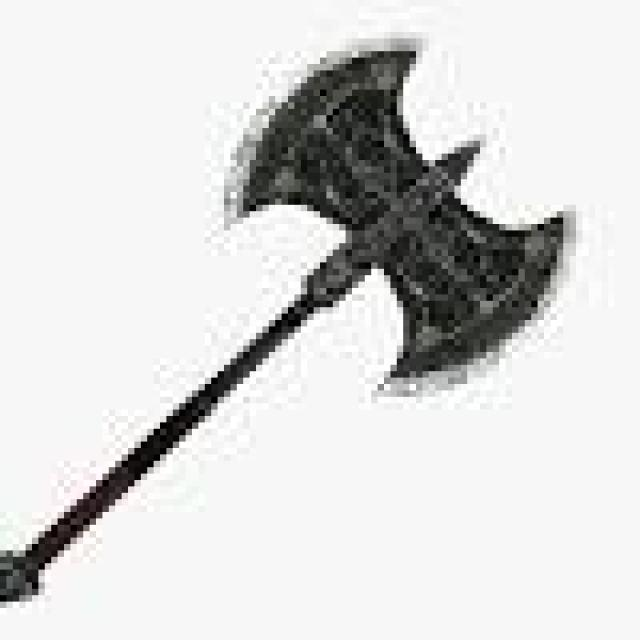Gun: (0, 27, 579, 608)
